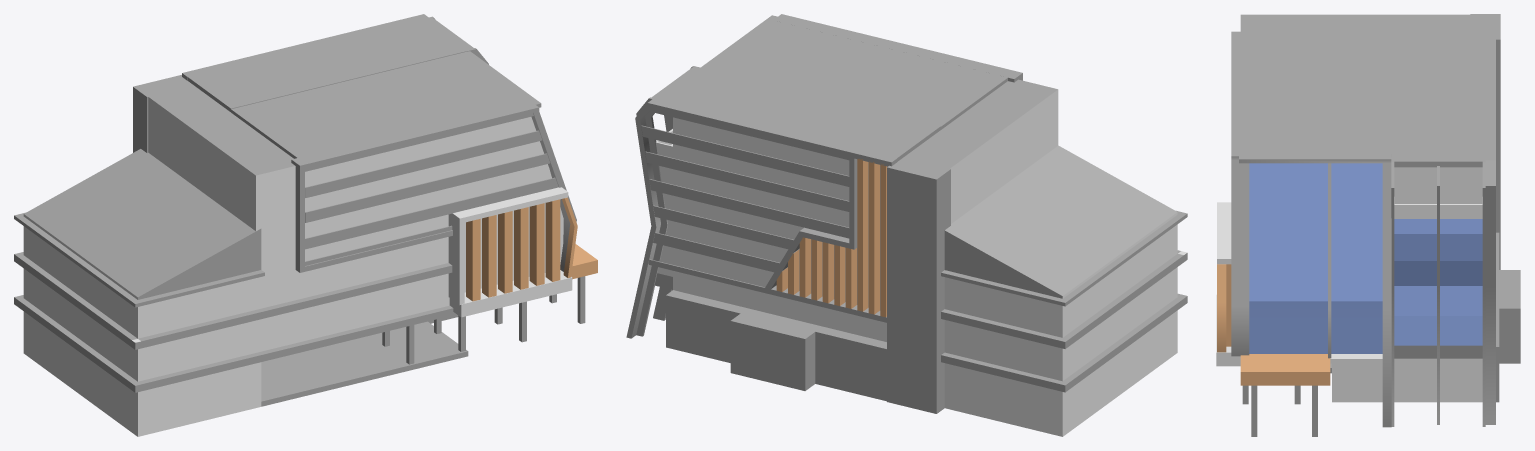
File: KOSEN.glb
3 renders of one model, left to right at view 1: azimuth 30°, elevation 25°; view 2: azimuth 150°, elevation 25°; view 3: azimuth 270°, elevation 25°, orthographic. The views are drawn at different scales.
Visible parts, largest first — view 1: ลูกบาศก์.030, Cube, ลูกบาศก์.011, ลูกบาศก์.013, ลูกบาศก์, ลูกบาศก์.014, ลูกบาศก์.026, ลูกบาศก์.027, ลูกบาศก์.023, ลูกบาศก์.029, ลูกบาศก์.028, ลูกบาศก์.025 (+1 smaller); view 2: ลูกบาศก์.030, Cube, ลูกบาศก์, ลูกบาศก์.013, ลูกบาศก์.029, ลูกบาศก์.010, ลูกบาศก์.006, ลูกบาศก์.007, ลูกบาศก์.011, ลูกบาศก์.008, ลูกบาศก์.003, ลูกบาศก์.001 (+2 smaller); view 3: Cube, ลูกบาศก์.013, ลูกบาศก์, ลูกบาศก์.011, ลูกบาศก์.029, ลูกบาศก์.001, ลูกบาศก์.004, ลูกบาศก์.012, ลูกบาศก์.002, ลูกบาศก์.024, ลูกบาศก์.019, ลูกบาศก์.020.
Part boxes in pixels (x1,y1,x2,y2): ลูกบาศก์.030: (14, 149, 454, 436); Cube: (148, 85, 597, 351); ลูกบาศก์.011: (291, 101, 576, 304); ลูกบาศก์.013: (231, 51, 541, 158); ลูกบาศก์: (182, 14, 474, 111); ลูกบาศก์.014: (261, 321, 468, 406); ลูกบาศก์.026: (305, 177, 558, 249); ลูกบาศก์.027: (305, 153, 550, 222); ลูกบาศก์.023: (305, 130, 542, 197); ลูกบาศก์.029: (133, 75, 193, 152); ลูกบาศก์.028: (305, 113, 533, 171); ลูกบาศก์.025: (305, 225, 452, 265); ลูกบาศก์.030: (941, 145, 1187, 436); Cube: (654, 79, 1058, 401); ลูกบาศก์: (626, 67, 940, 338); ลูกบาศก์.013: (672, 15, 1007, 290); ลูกบาศก์.029: (887, 157, 950, 413); ลูกบาศก์.010: (641, 125, 849, 186); ลูกบาศก์.006: (645, 151, 849, 211); ลูกบาศก์.007: (649, 179, 849, 238); ลูกบาศก์.011: (773, 14, 1022, 82); ลูกบาศก์.008: (653, 205, 793, 249); ลูกบาศก์.003: (653, 232, 779, 272); ลูกบาศก์.001: (636, 97, 667, 336); Cube: (1216, 14, 1520, 402); ลูกบาศก์.013: (1239, 35, 1391, 427); ลูกบาศก์: (1392, 34, 1495, 424); ลูกบาศก์.011: (1217, 31, 1249, 356); ลูกบาศก์.029: (1470, 14, 1500, 269); ลูกบาศก์.001: (1482, 157, 1485, 426); ลูกบาศก์.004: (1391, 157, 1394, 426); ลูกบาศก์.012: (1217, 264, 1226, 352); ลูกบาศก์.002: (1437, 157, 1439, 424); ลูกบาศก์.024: (1328, 163, 1331, 358); ลูกบาศก์.019: (1251, 385, 1257, 436); ลูกบาศก์.020: (1312, 385, 1317, 436).
Bounding box in the file's own units: 58.52 × 28.5 × 30.98.
